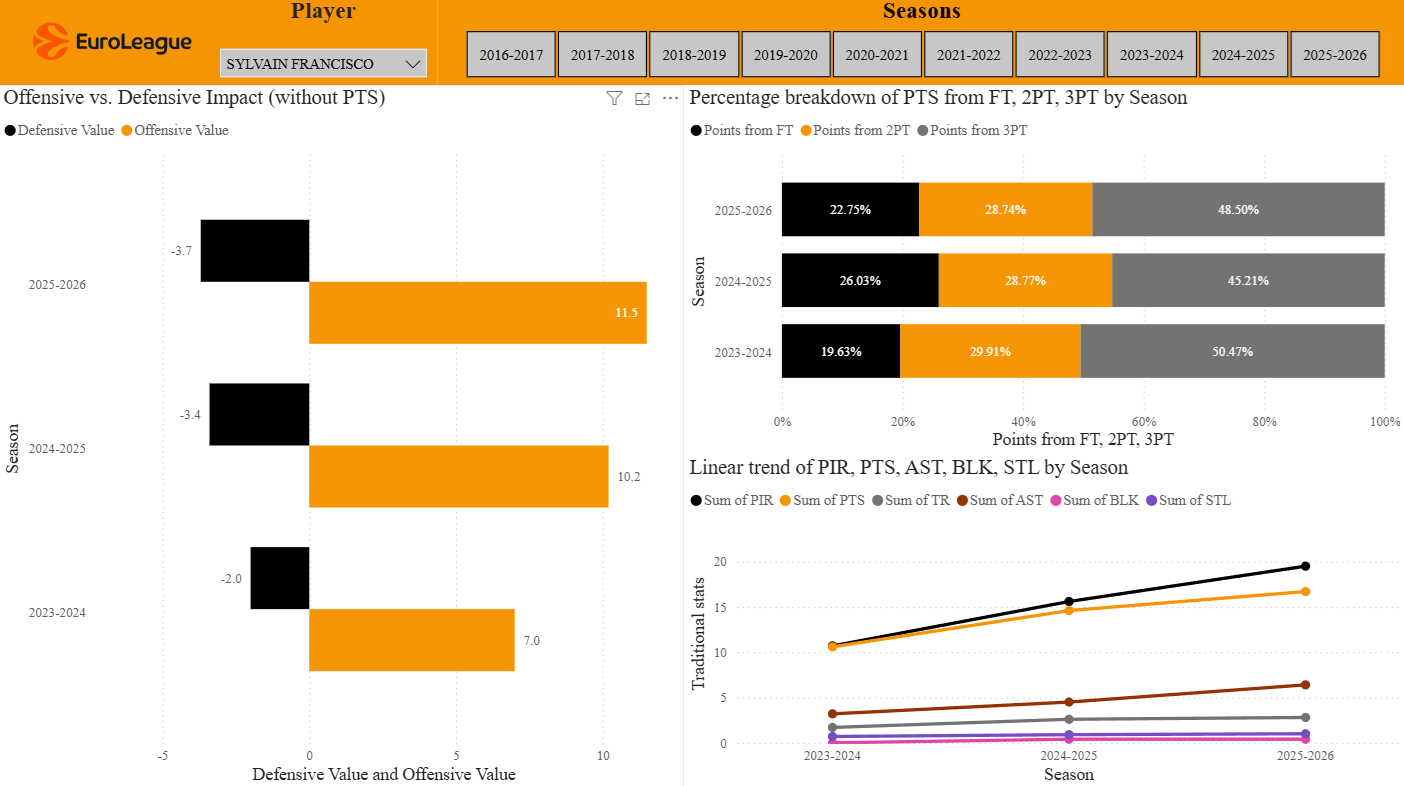

This screenshot's page, from the dashboard's own definition file:
{"tool":"powerbi","page":{"name":"Players stats","canvas":[1280,720],"ordinal":3},"visuals":[{"type":"shape","box":[0,0,192,80],"z":0},{"type":"lineChart","title":"Linear trend of PIR, PTS, AST, BLK, STL by Season","fields":{"Category":["Append_stats_traditional.Season"],"Y":["Sum(Append_stats_traditional.PIR)","Sum(Append_stats_traditional.PTS)","Sum(Append_stats_traditional.TR)","Sum(Append_stats_traditional.AST)","Sum(Append_stats_traditional.BLK)","Sum(Append_stats_traditional.STL)"]},"box":[624,416,656,304],"z":1000},{"type":"slicer","title":"Player","fields":{"Values":["dimension-players-names-formatted.Player"]},"box":[192,0,208,80],"z":2000},{"type":"image","box":[32,8,144,64],"z":3000},{"type":"hundredPercentStackedBarChart","title":"Percentage breakdown of PTS from FT, 2PT, 3PT by Season","fields":{"Category":["Append_stats_traditional.Season"],"Y":["Measures (2).Points from FT","Measures (2).Points from 2PT","Measures (2).Points from 3PT"]},"box":[624,80,656,336],"z":4000},{"type":"clusteredBarChart","title":"Offensive vs. Defensive Impact (without PTS)","fields":{"Category":["Append_stats_traditional.Season"],"Y":["Measures (2).Defensive Value","Measures (2).Offensive Value"]},"box":[0,80,624,640],"z":5000},{"type":"slicer","title":"Seasons","fields":{"Values":["Seasons Dimension.Seasons"]},"box":[400,0,880,80],"z":6000}]}

Visuals, with their boxes in screenshot pixels (x1, y1, x2, y2), scaled from the page's 1280x720 canvas onto the 1404x786 screenshot:
shape: <box>0,0,211,87</box>
"Linear trend of PIR, PTS, AST, BLK, STL by Season" lineChart: <box>684,454,1403,785</box>
"Player" slicer: <box>211,0,439,87</box>
image: <box>35,9,193,79</box>
"Percentage breakdown of PTS from FT, 2PT, 3PT by Season" hundredPercentStackedBarChart: <box>684,87,1403,454</box>
"Offensive vs. Defensive Impact (without PTS)" clusteredBarChart: <box>0,87,684,785</box>
"Seasons" slicer: <box>439,0,1403,87</box>
